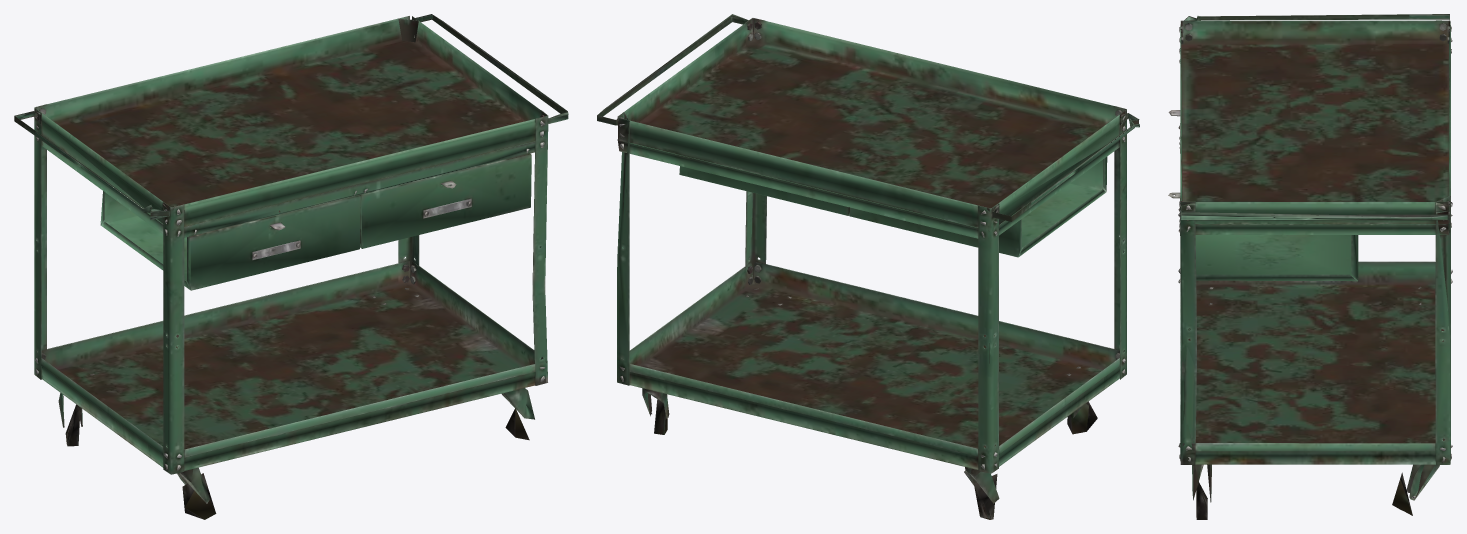
File: tool_cart.glb
3 views of the same model, side by side, from view 1: azimuth 30°, elevation 25°; view 2: azimuth 150°, elevation 25°; view 3: azimuth 270°, elevation 25° (orthographic).
Visible parts, largest first — view 1: tool_cart; view 2: tool_cart; view 3: tool_cart.
Boxes of the visible parts, left/top/right/bottom form: tool_cart: left=14, top=14, right=568, bottom=519; tool_cart: left=597, top=14, right=1139, bottom=519; tool_cart: left=1168, top=14, right=1452, bottom=519.
Size of the model in its own units: 1.26 by 0.9456 by 0.7521.
1 material, 1 textured.
